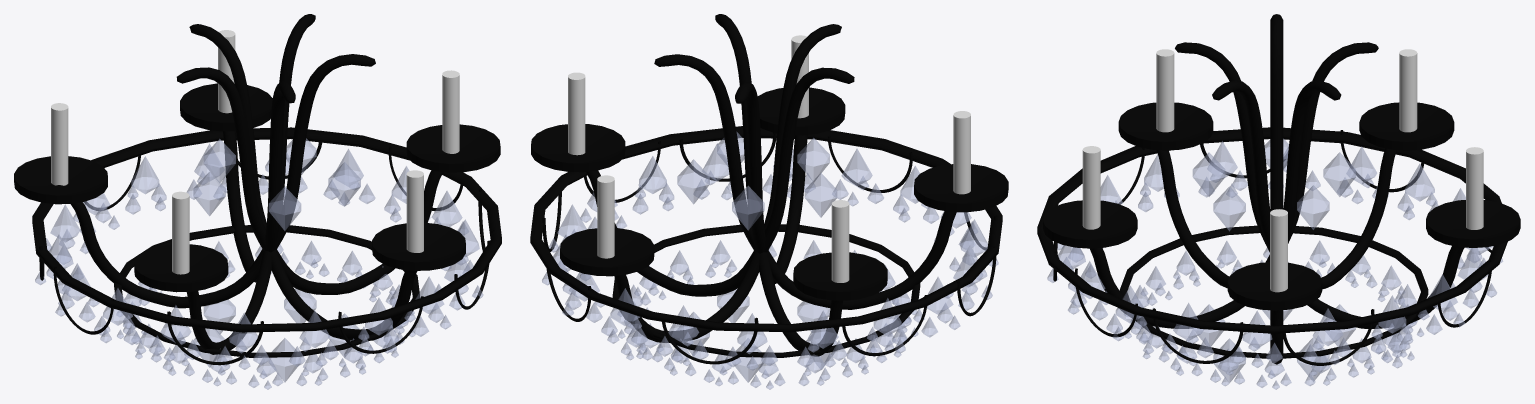
Rendered from chandelier.fbx.
3 views of the same model, side by side, from view 1: azimuth 30°, elevation 25°; view 2: azimuth 150°, elevation 25°; view 3: azimuth 270°, elevation 25° (orthographic).
Parts seen in each view (by area): view 1: nurbsCircle2; view 2: nurbsCircle2; view 3: nurbsCircle2.
Boxes of the visible parts, box(x1,y1,x2,y2) form: nurbsCircle2: box(14, 14, 501, 389); nurbsCircle2: box(530, 14, 1008, 389); nurbsCircle2: box(1037, 14, 1520, 389).
Bounding box in the file's own units: 31.91 × 21.4 × 30.81.
